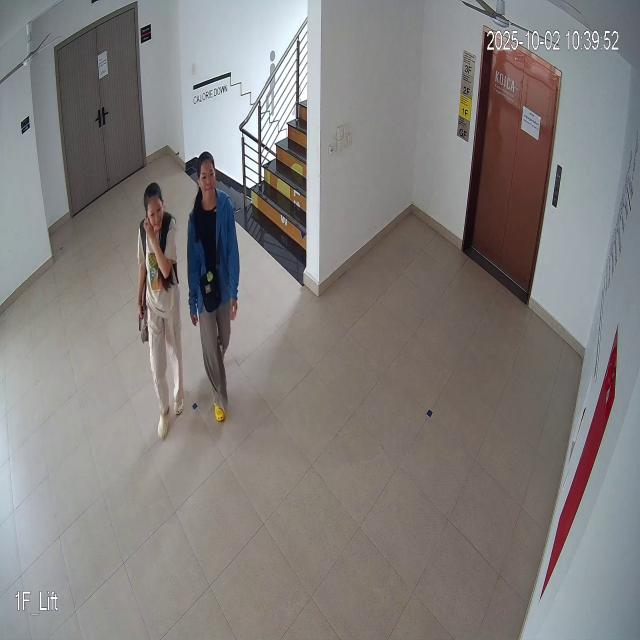face: (140, 174, 165, 237), (194, 144, 220, 203)
